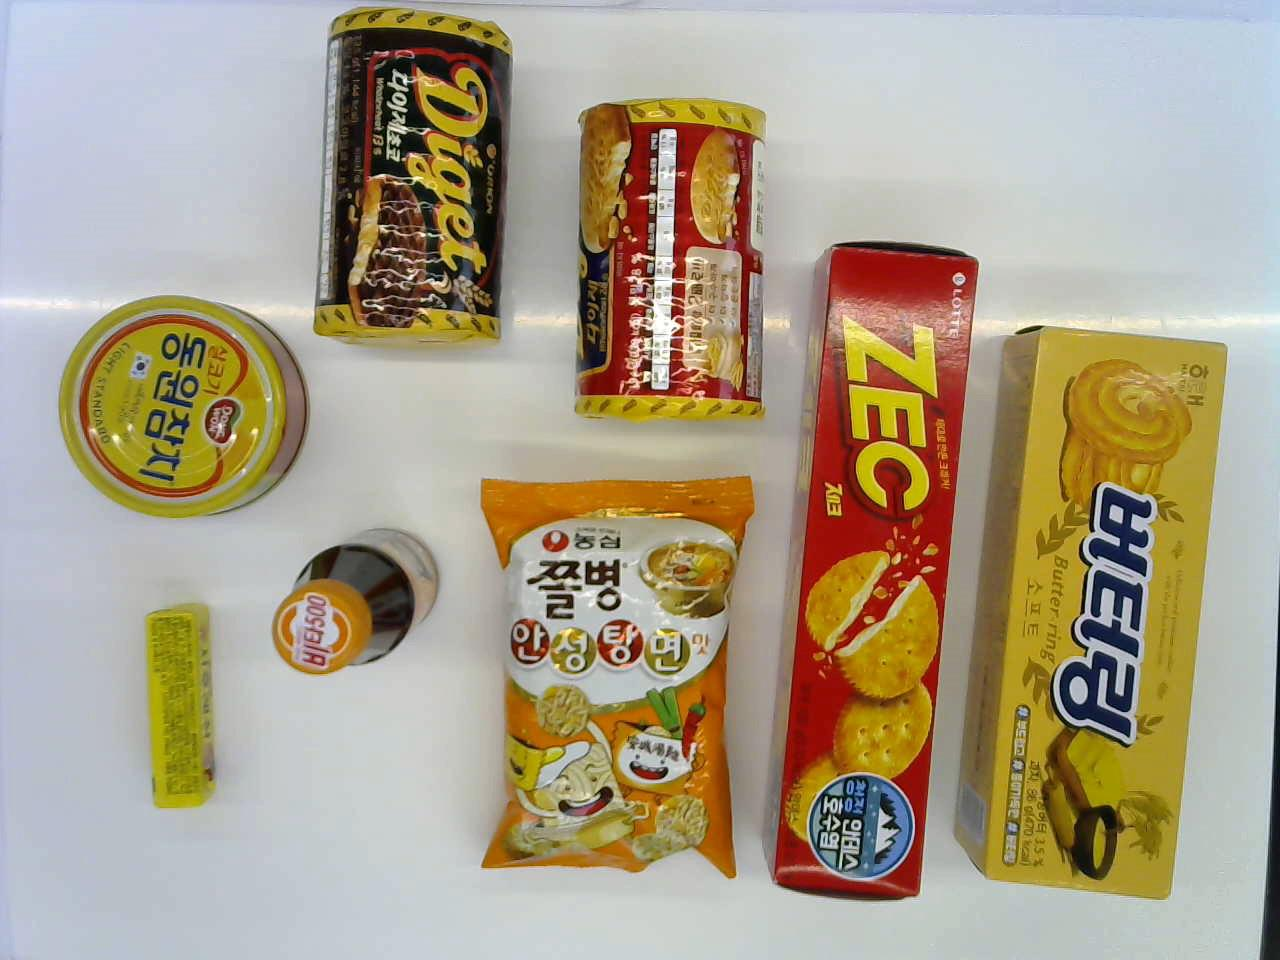buttering: (959, 320, 1231, 897)
diget_choco: (311, 10, 517, 344)
diget_ori: (566, 93, 767, 428)
jjolbyung_noodle: (483, 456, 748, 886)
juicyfresh: (129, 607, 229, 821)
tuna: (67, 298, 313, 528)
vita500: (276, 518, 440, 679)
zec: (773, 231, 990, 899)
